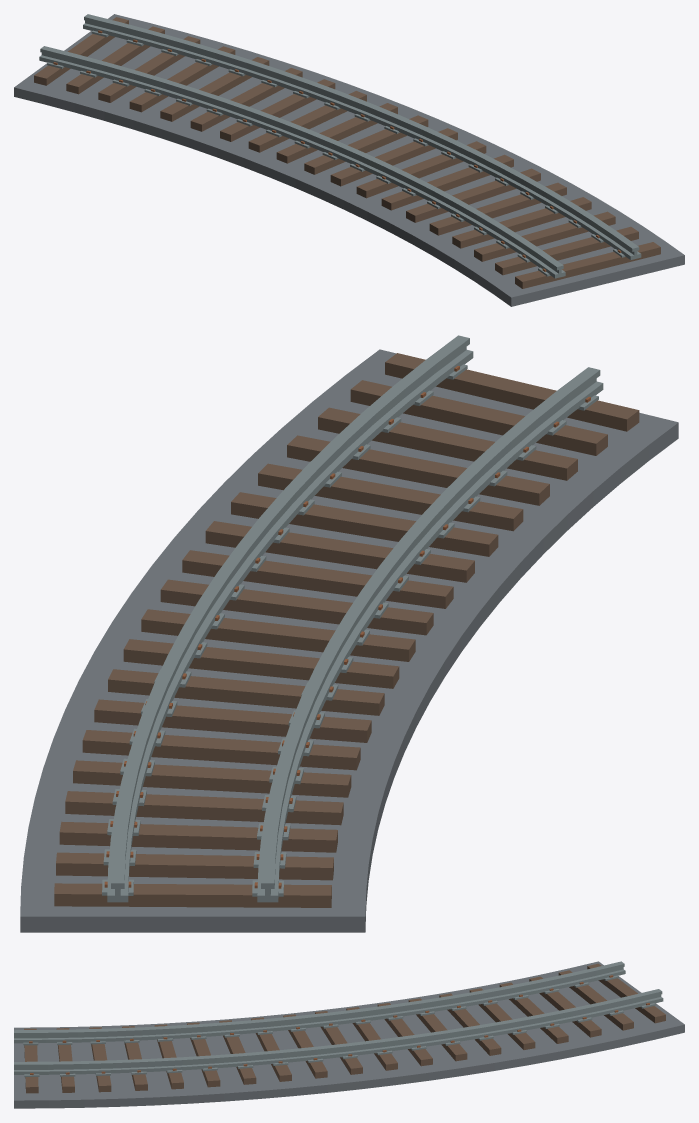
The model's file is DeadRail_TrackCurve_Left_30deg.fbx.
3 views of the same model, one above another, from view 1: azimuth 30°, elevation 25°; view 2: azimuth 150°, elevation 25°; view 3: azimuth 270°, elevation 25° (orthographic). The views are drawn at different scales.
Parts seen in each view (by area): view 1: TrackCurve_Left_30deg_Mesh.002; view 2: TrackCurve_Left_30deg_Mesh.002; view 3: TrackCurve_Left_30deg_Mesh.002.
Boxes of the visible parts, box(x1,y1,x2,y2) form: TrackCurve_Left_30deg_Mesh.002: box(14, 14, 684, 306); TrackCurve_Left_30deg_Mesh.002: box(20, 335, 678, 932); TrackCurve_Left_30deg_Mesh.002: box(14, 961, 684, 1108).
Size of the model in its own units: 6.29 by 0.52 by 12.82.
